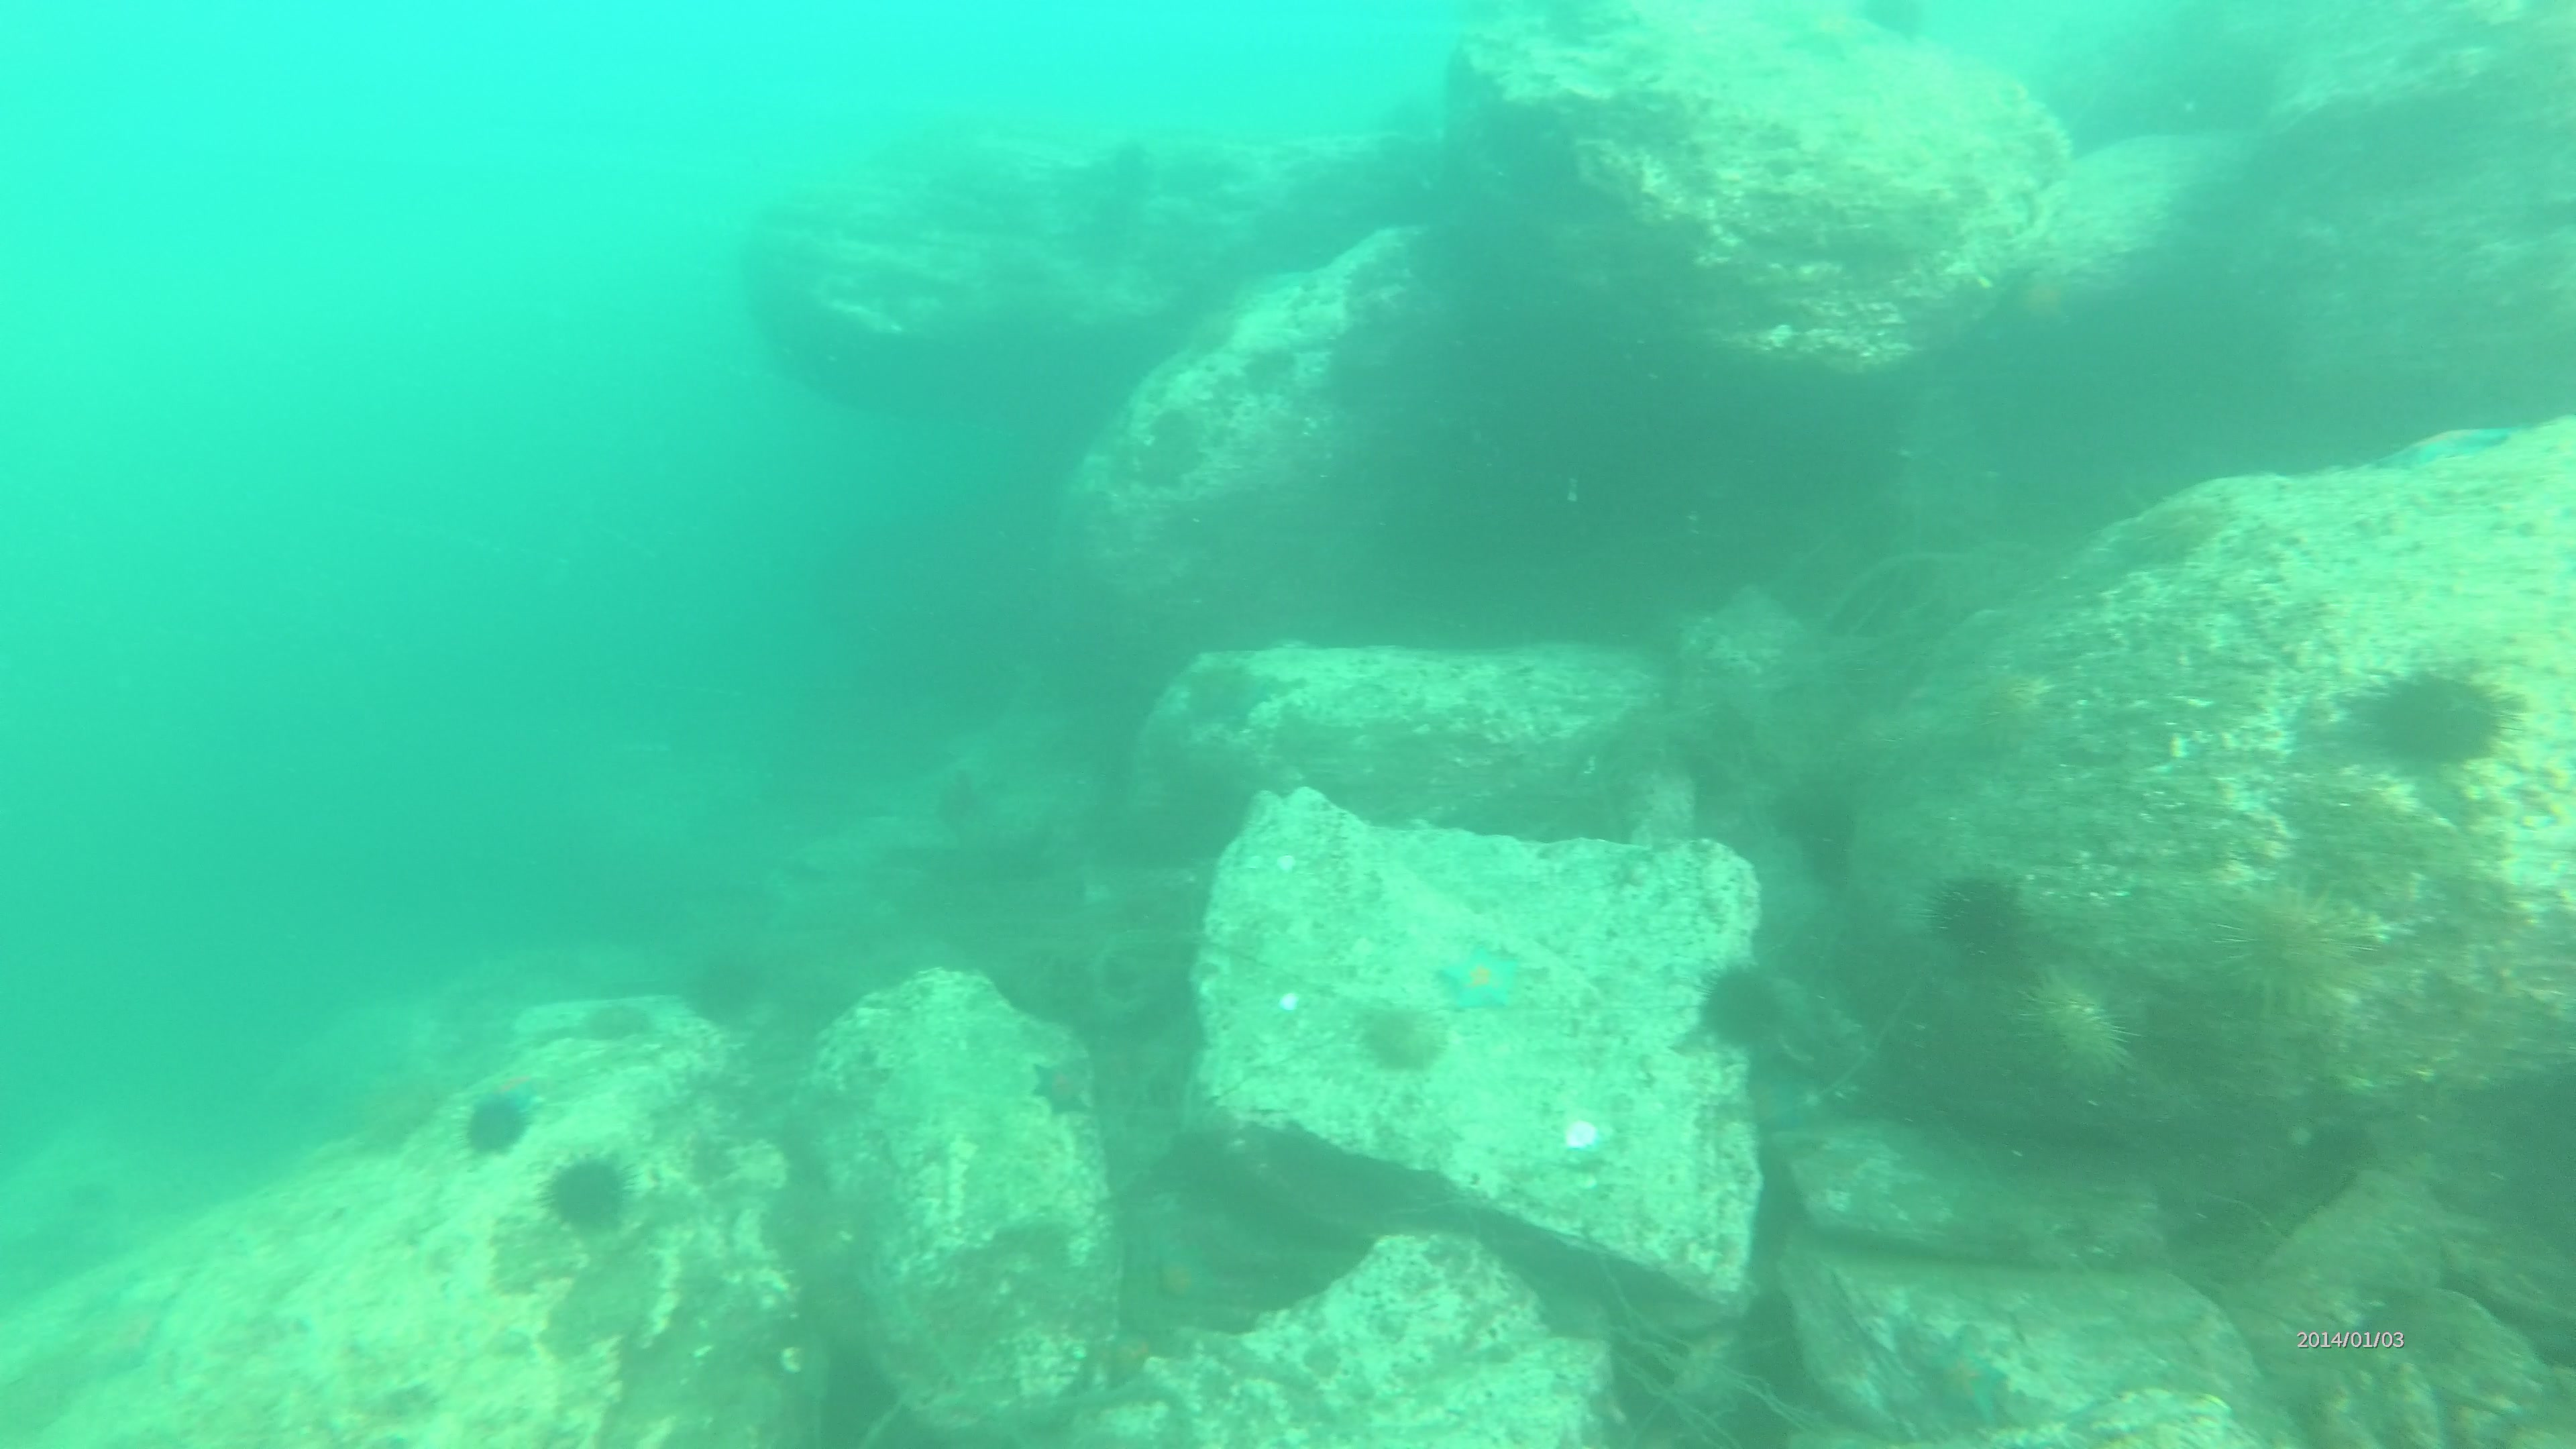echinus: (2206, 872, 2367, 1012), (2365, 663, 2512, 770), (1936, 878, 2031, 971), (545, 1159, 628, 1237), (1702, 966, 1783, 1044), (688, 962, 768, 1030), (464, 1097, 533, 1161)
starfish: (1435, 945, 1523, 1014)
